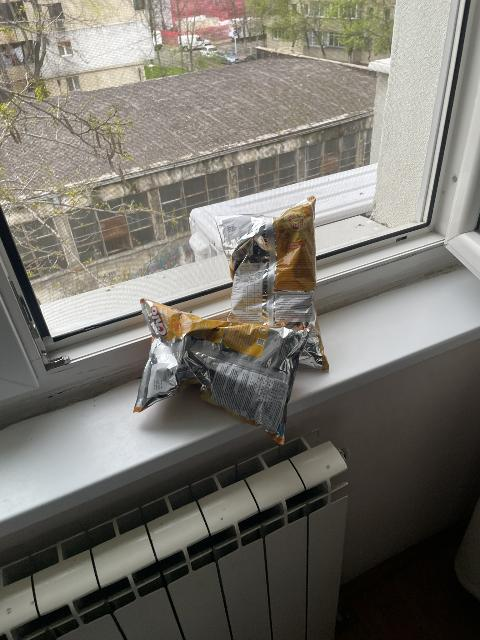Chio Cascaval 125g: (136, 297, 311, 437)
Chio Hula Hoops Cheese 70g: (215, 201, 326, 370)
